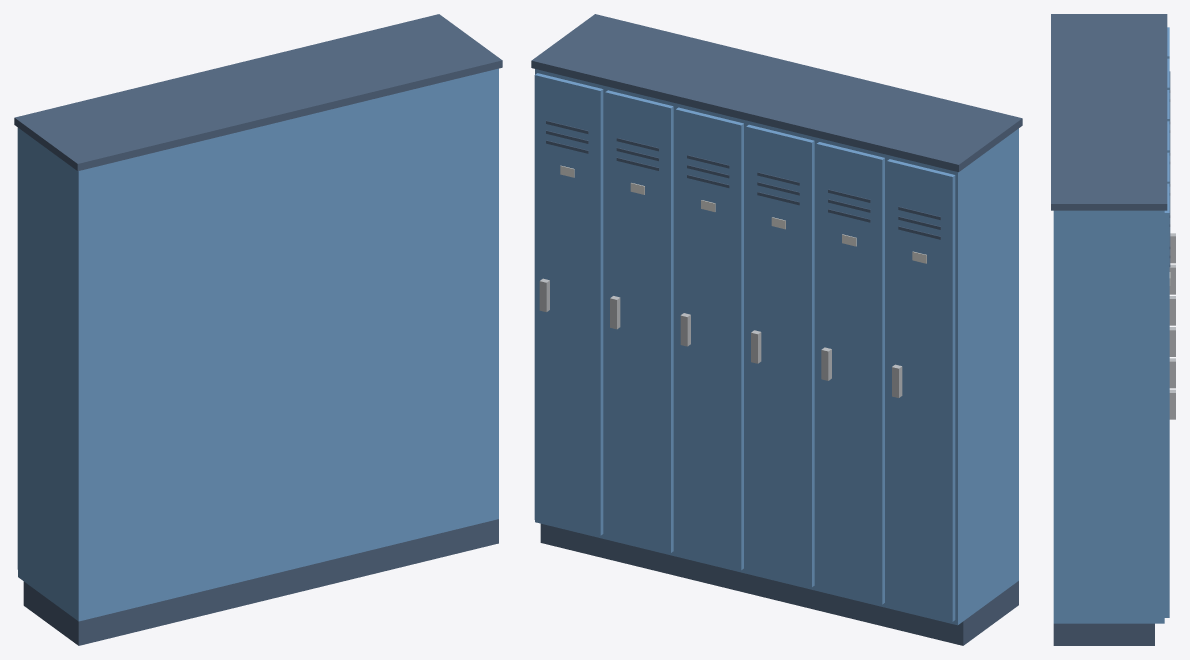
The model's file is lockers.glb.
3 renders of one model, left to right at view 1: azimuth 30°, elevation 25°; view 2: azimuth 150°, elevation 25°; view 3: azimuth 270°, elevation 25°, orthographic. The views are drawn at different scales.
Visible parts, largest first — view 1: body; view 2: body; view 3: body.
Boxes of the visible parts, <box> form: body: <box>14,14,502,645</box>; body: <box>531,14,1022,645</box>; body: <box>1051,14,1175,645</box>.
Bounding box in the file's own units: 1.82 × 1.98 × 0.505.
